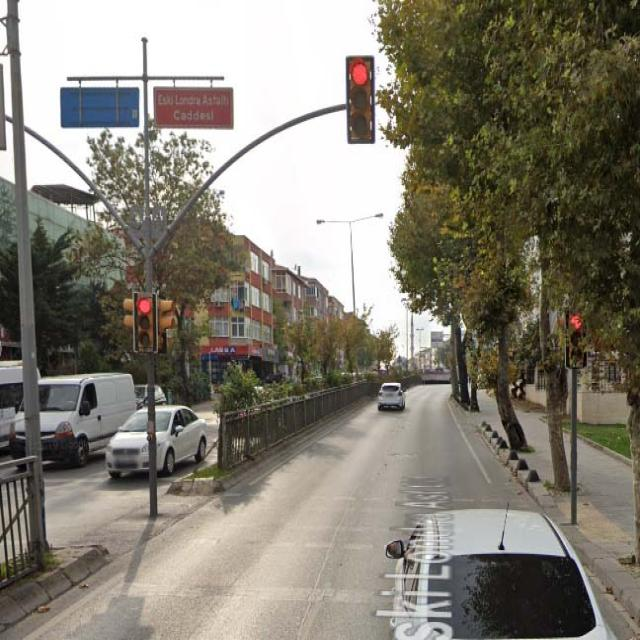kirmizi: (345, 55, 374, 143), (133, 292, 157, 352), (565, 306, 587, 369)
